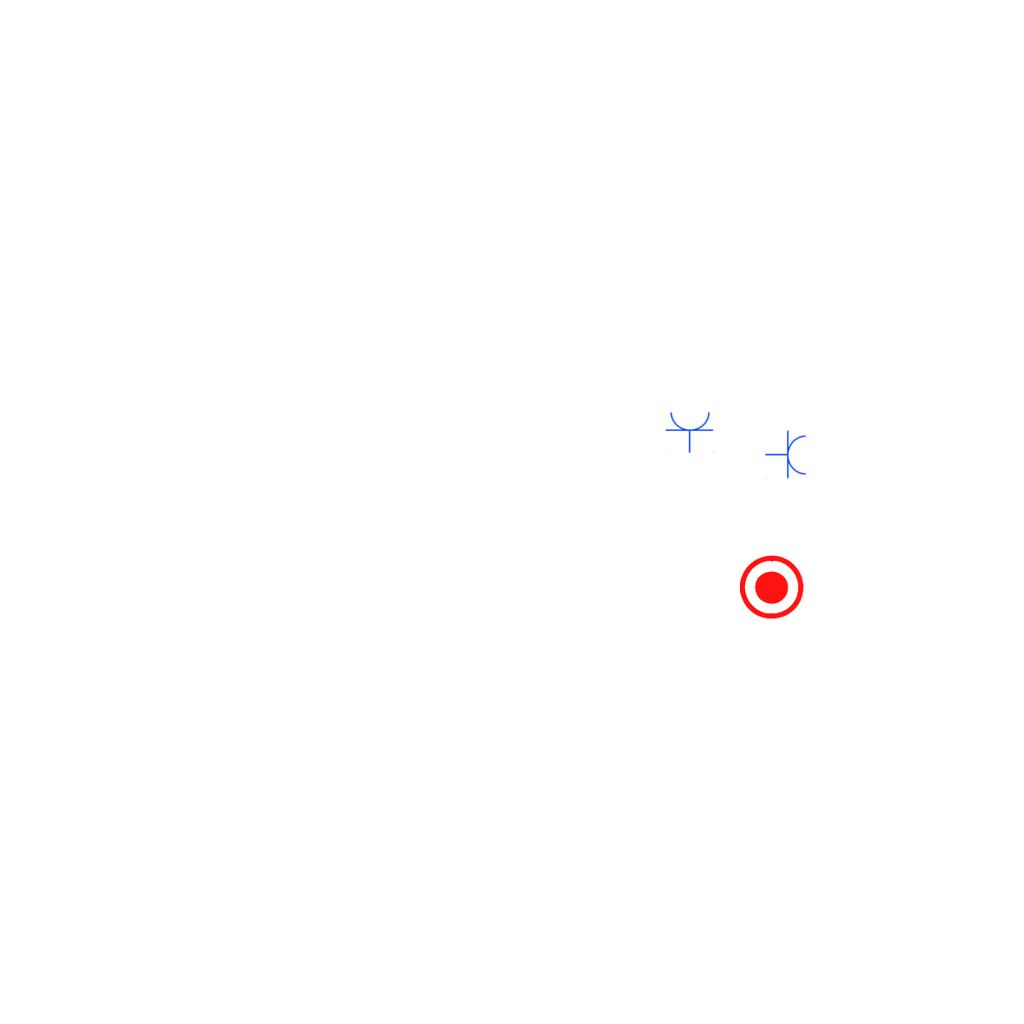Schukosteckdose_einfach: (765, 430, 808, 480), (665, 410, 715, 453)
Taster: (740, 555, 806, 621)
